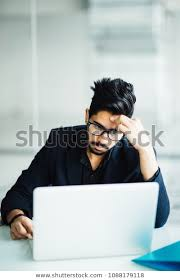Indian_Male: (85, 92, 125, 160)
